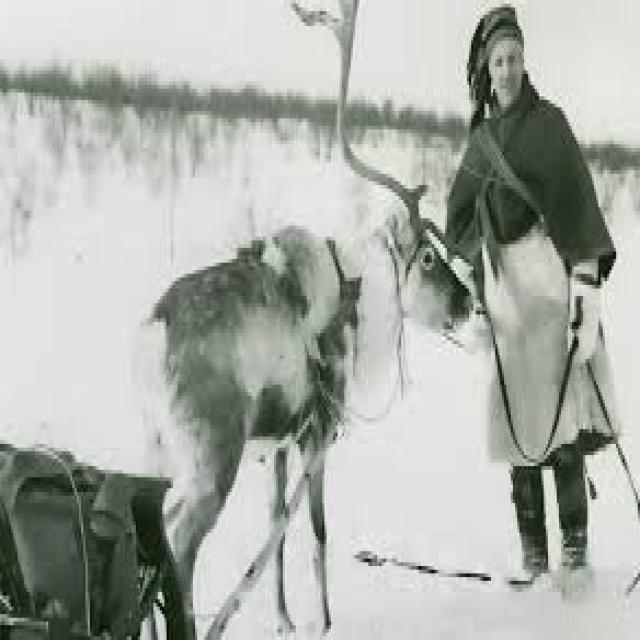Reindeer: (139, 4, 481, 640)
